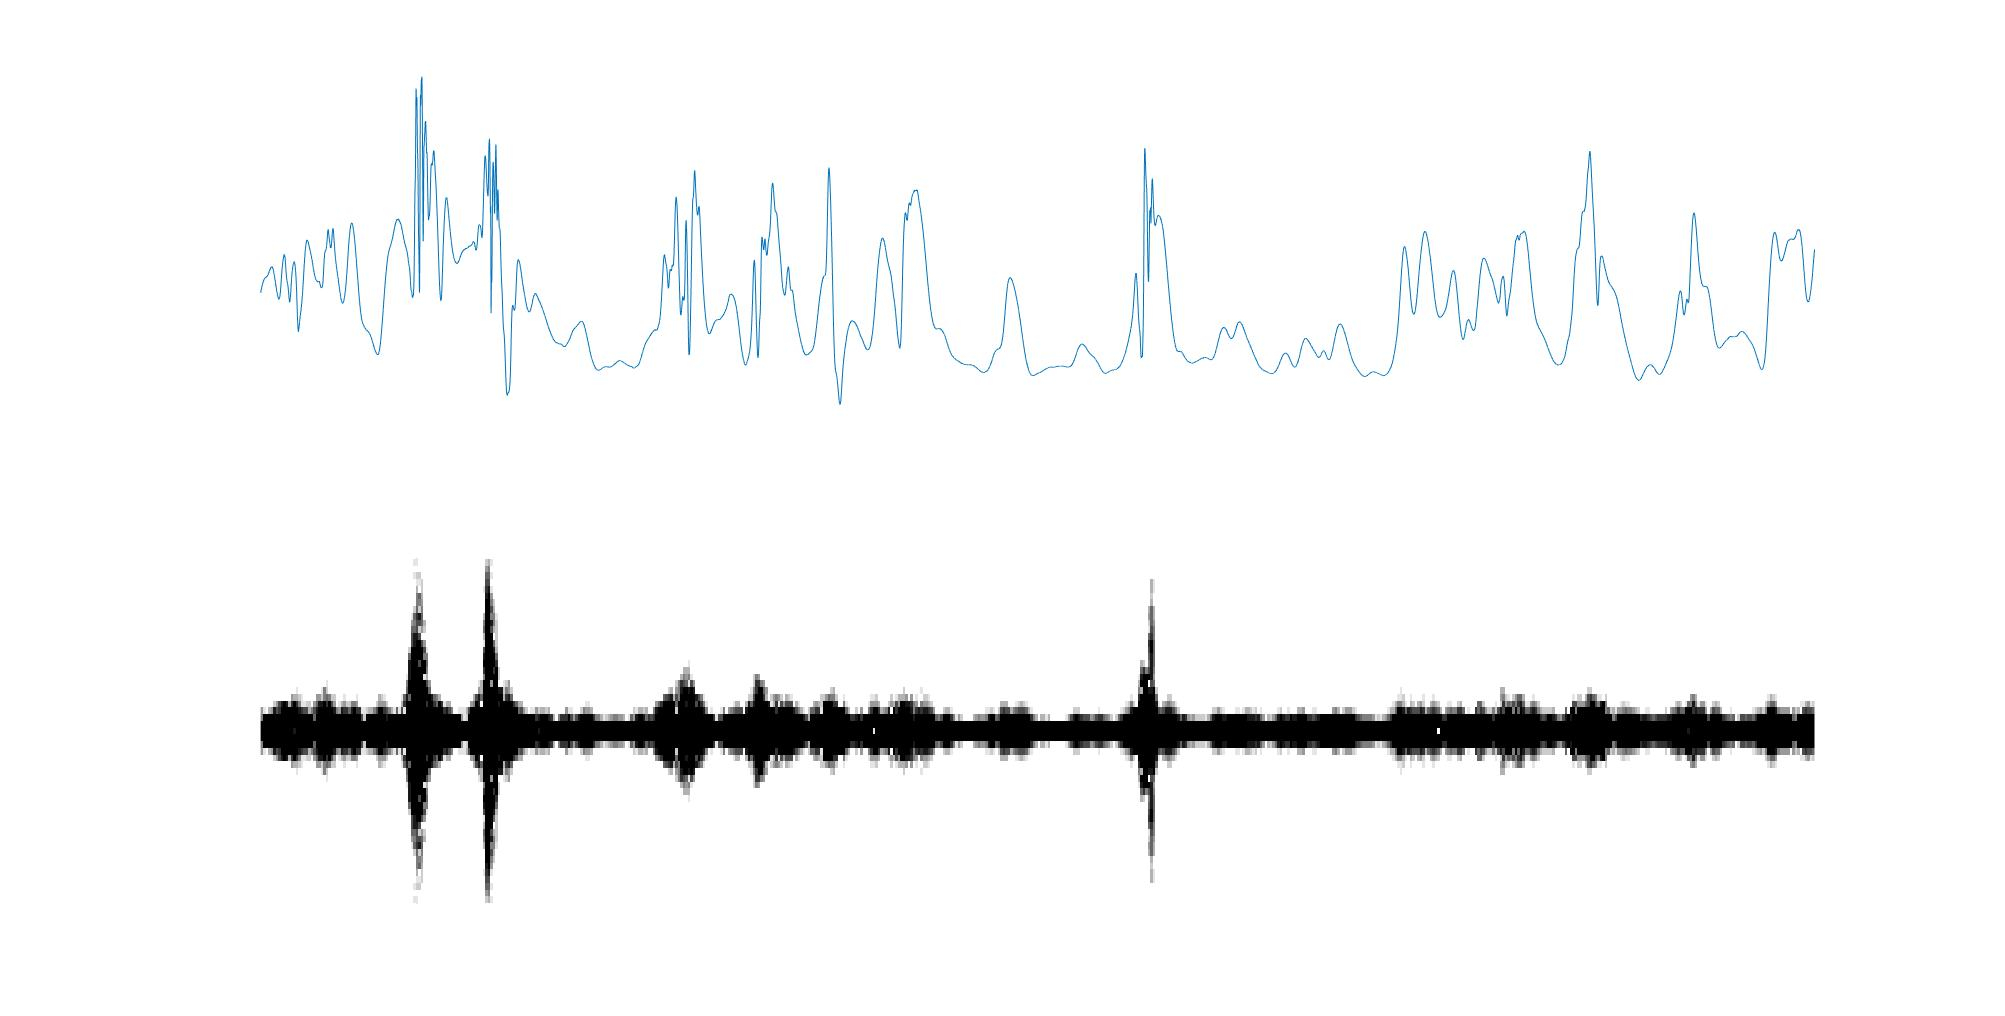spot: (409, 568, 440, 884), (1133, 575, 1164, 885), (477, 557, 500, 912)
